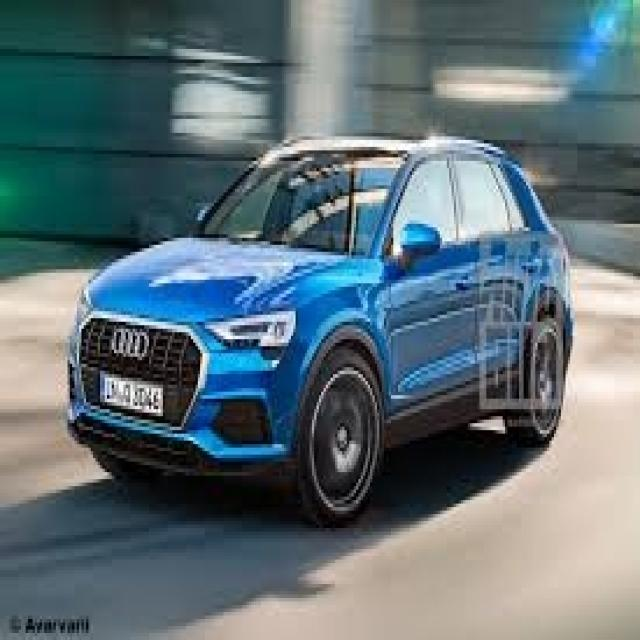blue: (68, 121, 572, 502)
